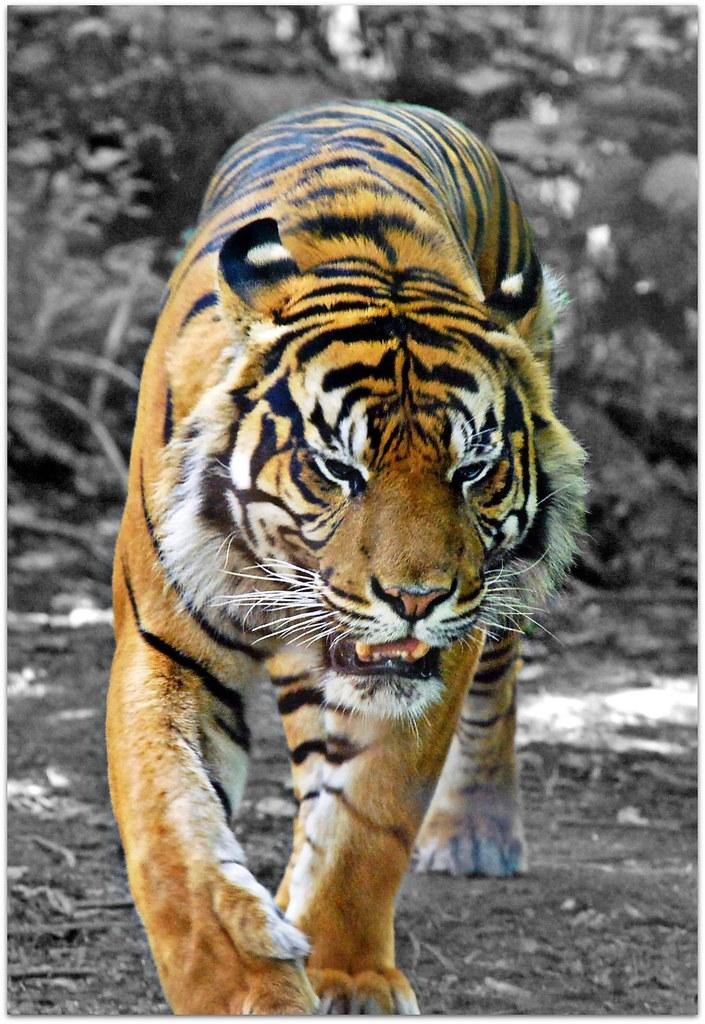tiger: (104, 97, 594, 1016)
